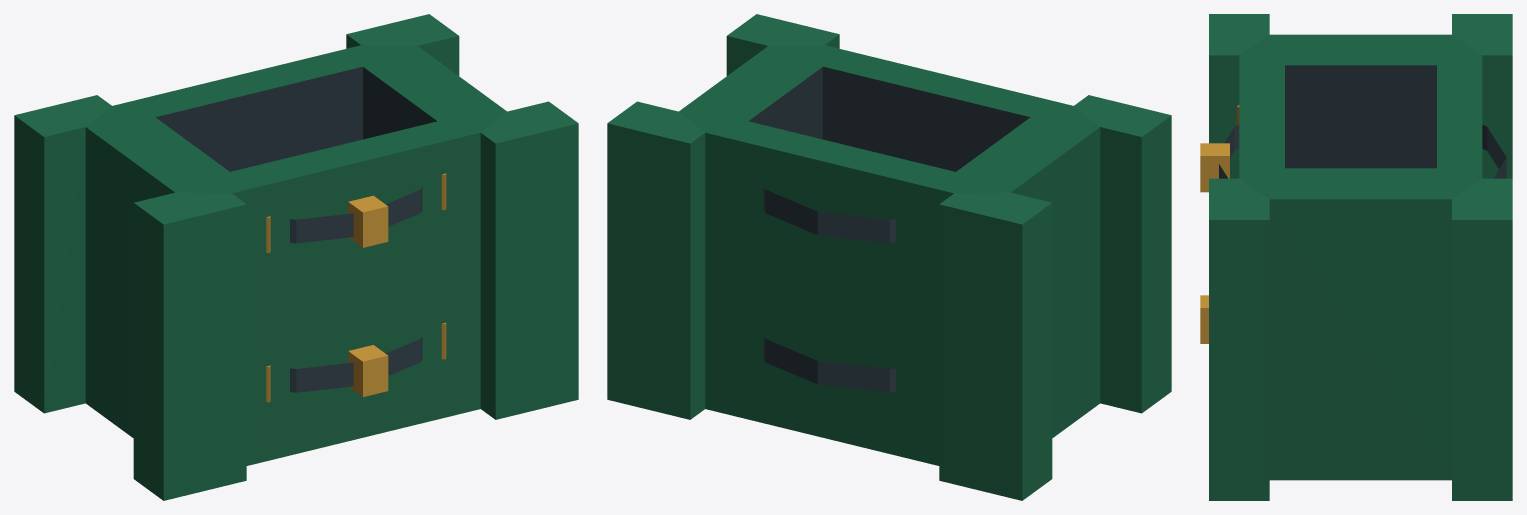
File: dock-chest-mint.glb
3 renders of one model, left to right at view 1: azimuth 30°, elevation 25°; view 2: azimuth 150°, elevation 25°; view 3: azimuth 270°, elevation 25°, orthographic.
Visible parts, largest first — view 1: dock-chest-mint; view 2: dock-chest-mint; view 3: dock-chest-mint.
Part boxes in pixels (box(x1,y1,x2,y2)): dock-chest-mint: box(14, 14, 578, 500); dock-chest-mint: box(607, 14, 1171, 500); dock-chest-mint: box(1200, 14, 1512, 500).
Size of the model in its own units: 0.77 by 0.49 by 0.4939.
